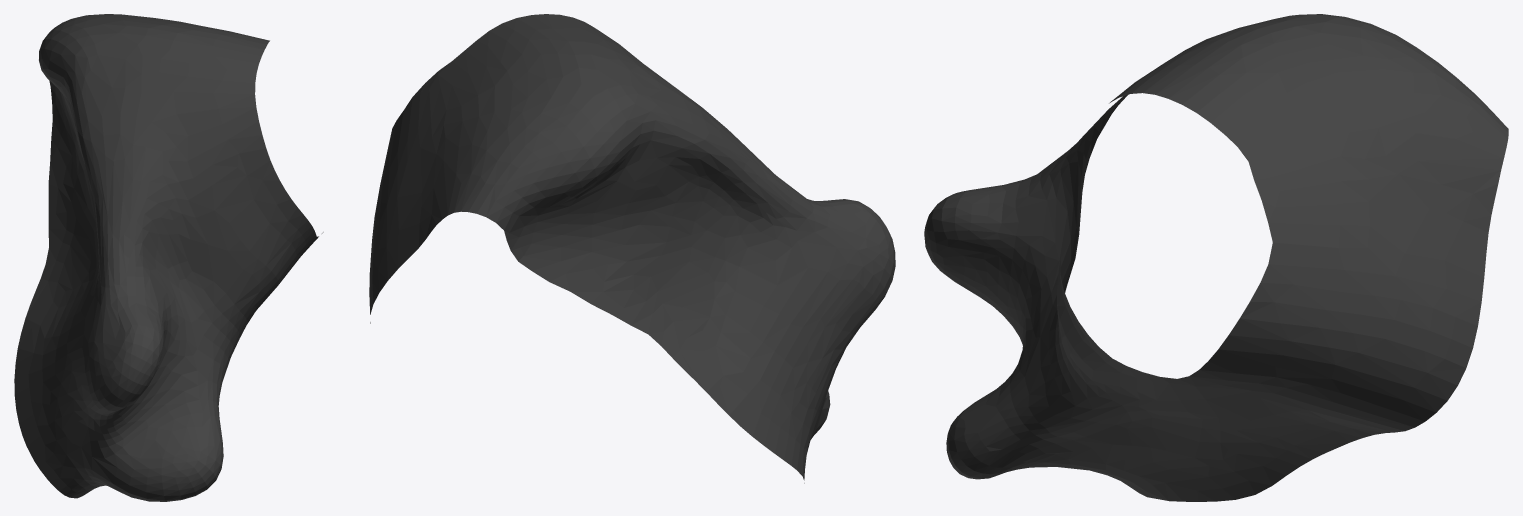
Rendered from Ulna_olecranon.glb.
The picture shows the model from 3 angles, left to right: view 1: azimuth 30°, elevation 25°; view 2: azimuth 150°, elevation 25°; view 3: azimuth 270°, elevation 25°; orthographic projection. The views are drawn at different scales.
Visible parts, largest first — view 1: Ulna_olecranon; view 2: Ulna_olecranon; view 3: Ulna_olecranon.
Boxes of the visible parts, x1,y1,x2,y2 form: Ulna_olecranon: (14,14,323,501); Ulna_olecranon: (369,14,895,483); Ulna_olecranon: (924,14,1508,501).
Bounding box in the file's own units: 0.2516 × 0.2867 × 0.2848.
1 material, 1 textured.
